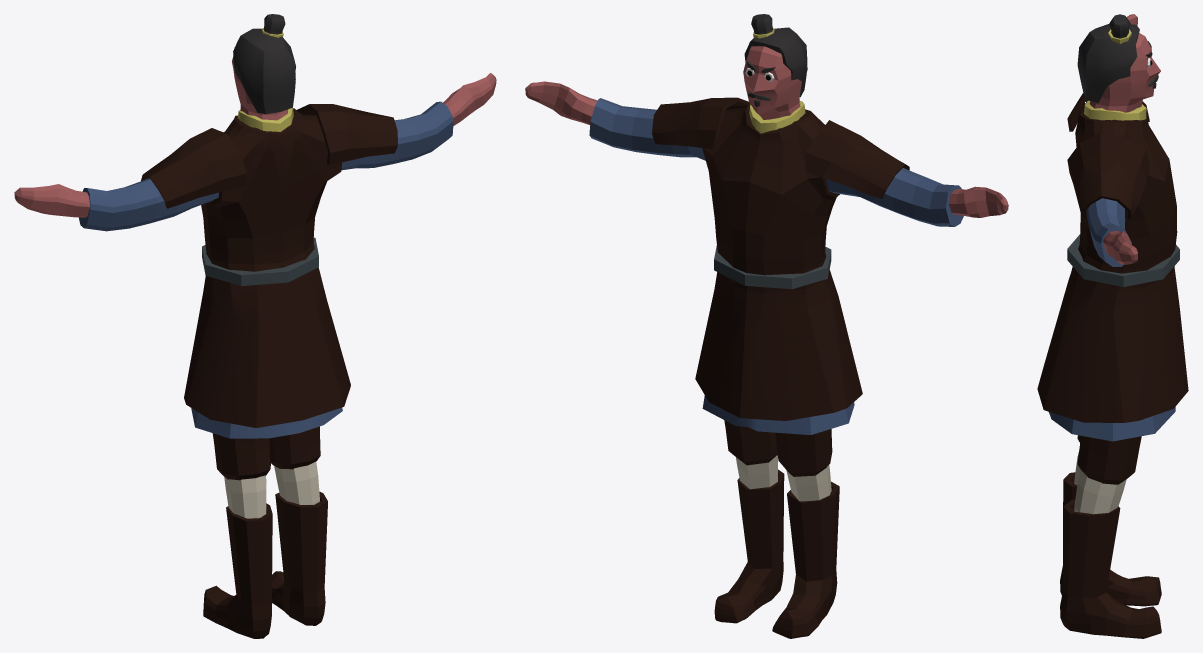
Rendered from shibing_lv2.fbx.
3 views of the same model, side by side, from view 1: azimuth 30°, elevation 25°; view 2: azimuth 150°, elevation 25°; view 3: azimuth 270°, elevation 25° (orthographic).
Parts seen in each view (by area): view 1: kuijia, xiezi1, jianjia1, yifu11, toufa0, shenti21, kuzi1, tui1, yaodai, weibo1; view 2: kuijia, xiezi1, yifu11, jianjia1, shenti21, kuzi1, tui1, yaodai, toufa0, weibo1; view 3: kuijia, xiezi1, jianjia1, yifu11, shenti21, toufa0, kuzi1, yaodai, tui1, weibo1, pCylinder10.
Boxes of the visible parts, x1,y1,x2,y2 form: kuijia: (184, 108, 350, 427); xiezi1: (203, 491, 327, 638); jianjia1: (141, 104, 397, 208); yifu11: (78, 101, 453, 438); toufa0: (233, 28, 295, 114); shenti21: (14, 57, 496, 217); kuzi1: (212, 426, 320, 480); tui1: (224, 461, 319, 518); yaodai: (202, 237, 318, 285); weibo1: (237, 107, 293, 131); kuijia: (695, 103, 862, 420); xiezi1: (714, 469, 839, 638); yifu11: (589, 98, 963, 434); jianjia1: (652, 97, 909, 198); shenti21: (525, 46, 1008, 217); kuzi1: (724, 420, 832, 476); tui1: (736, 455, 831, 501); yaodai: (714, 245, 831, 289); toufa0: (744, 27, 807, 97); weibo1: (749, 101, 805, 133); kuijia: (1037, 109, 1188, 422); xiezi1: (1060, 472, 1161, 638); jianjia1: (1067, 93, 1149, 218); yifu11: (1049, 100, 1175, 441); shenti21: (1089, 14, 1160, 264); toufa0: (1077, 24, 1139, 103); kuzi1: (1077, 435, 1141, 484); yaodai: (1067, 234, 1179, 287); tui1: (1074, 452, 1126, 514); weibo1: (1084, 100, 1146, 120); pCylinder10: (1109, 14, 1130, 38).
Bounding box in the file's own units: 7.86 × 9.35 × 2.11.
